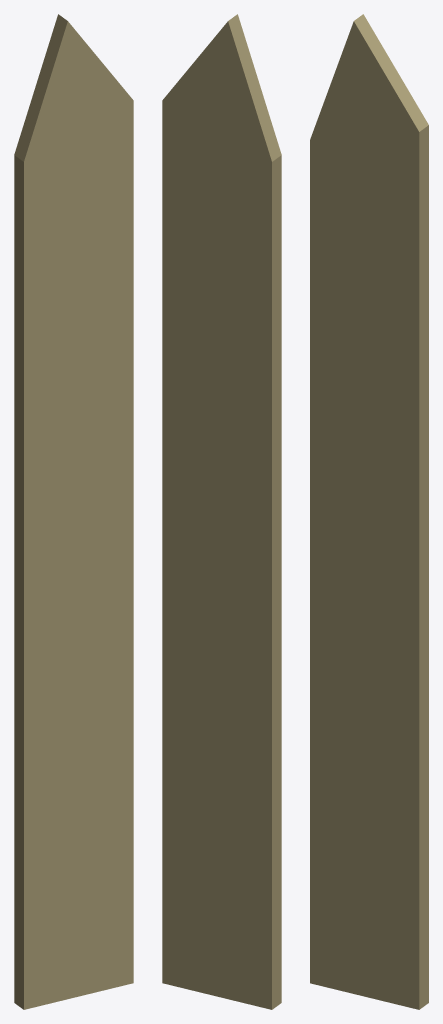
File: Fence(3).fbx
3 views of the same model, side by side, from view 1: azimuth 30°, elevation 25°; view 2: azimuth 150°, elevation 25°; view 3: azimuth 330°, elevation 25° (orthographic).
Parts seen in each view (by area): view 1: Cube.064; view 2: Cube.064; view 3: Cube.064.
Part boxes in pixels (bbox=[...]): Cube.064: bbox=[14, 14, 133, 1009]; Cube.064: bbox=[162, 14, 281, 1009]; Cube.064: bbox=[310, 14, 428, 1009].
Bounding box in the file's own units: 20.2 × 172 × 3.09.
Materials: 1 (1 with a texture image).
